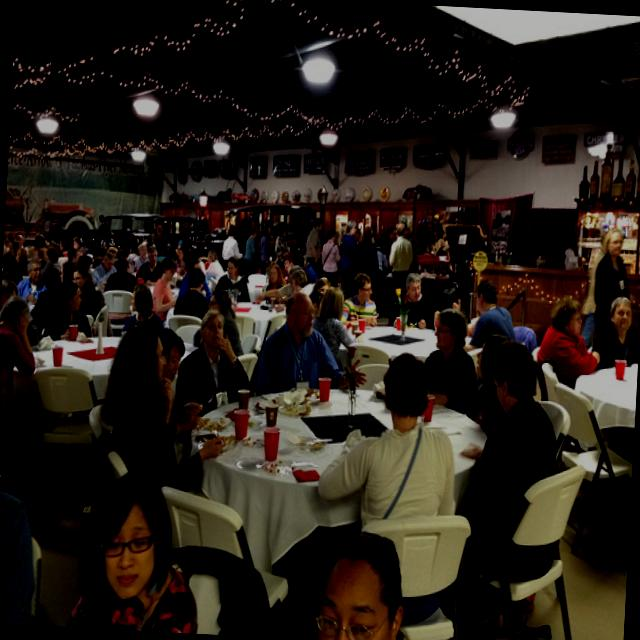Vehicle: (402, 181, 432, 204)
